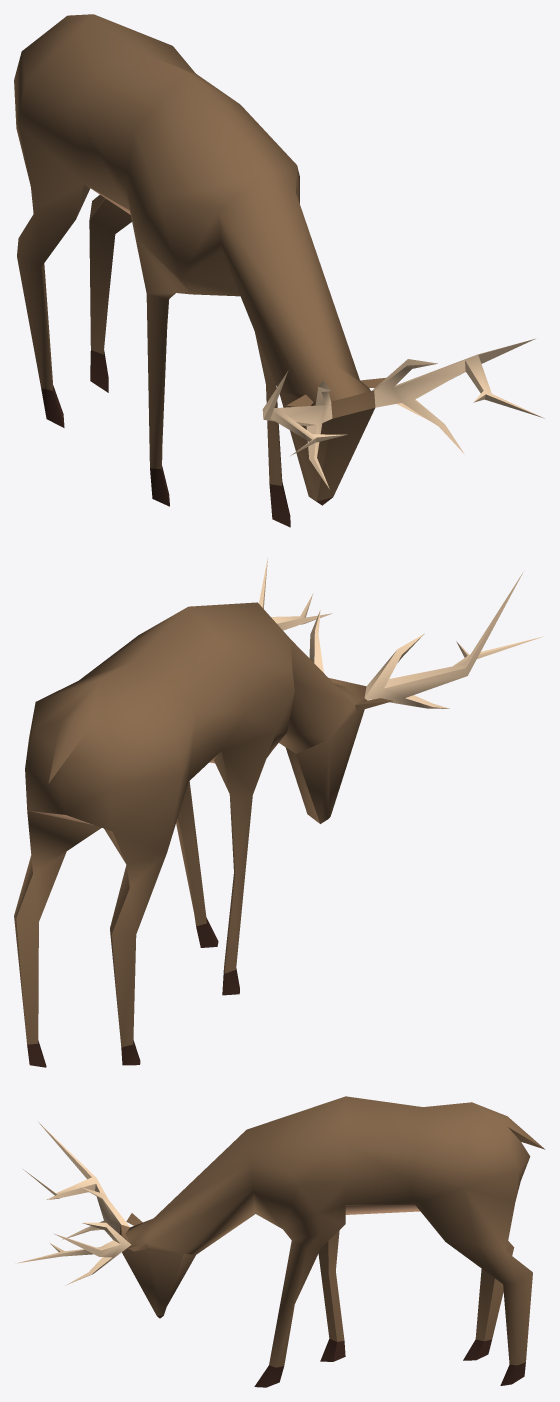
File: people-characters-deer-297.glb
3 renders of one model, top to bottom at view 1: azimuth 30°, elevation 25°; view 2: azimuth 150°, elevation 25°; view 3: azimuth 270°, elevation 25°, orthographic. The views are drawn at different scales.
Visible parts, largest first — view 1: Deer-ver3; view 2: Deer-ver3; view 3: Deer-ver3.
Part boxes in pixels (x1,y1,x2,y2): Deer-ver3: (14, 14, 544, 527); Deer-ver3: (14, 557, 543, 1067); Deer-ver3: (15, 1096, 545, 1387).
Bounding box in the file's own units: 0.8856 × 1.29 × 2.23.
1 material, 1 textured.
